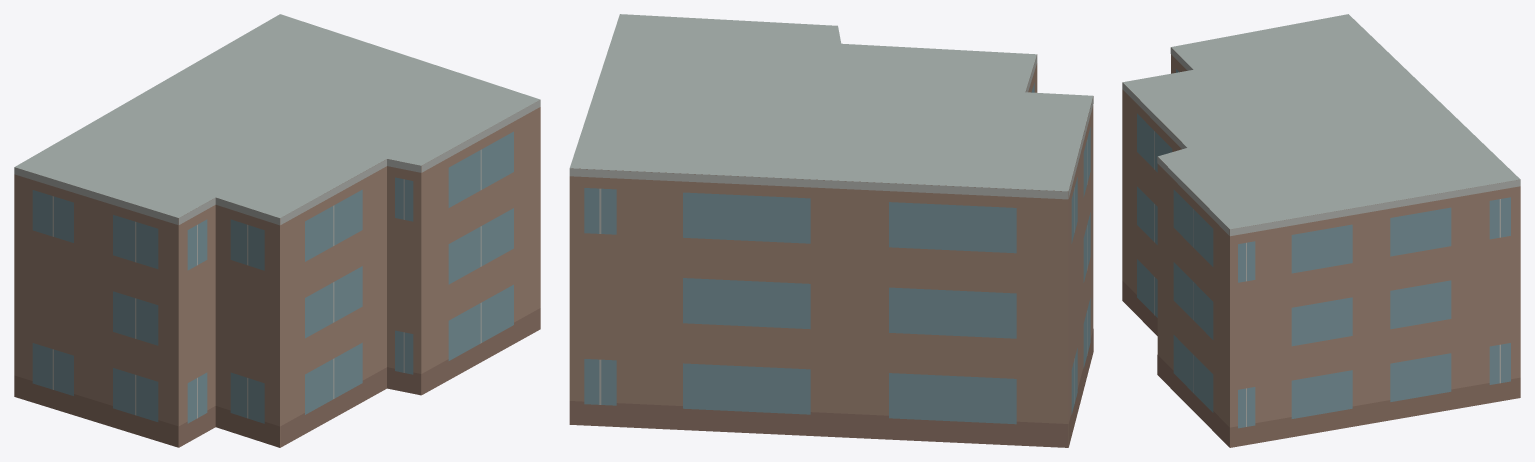
File: survey-upis-32993583.glb
The picture shows the model from 3 angles, left to right: view 1: azimuth 30°, elevation 25°; view 2: azimuth 150°, elevation 25°; view 3: azimuth 270°, elevation 25°; orthographic projection. The views are drawn at different scales.
Parts seen in each view (by area): view 1: survey-upis-32993583.tmp; view 2: survey-upis-32993583.tmp; view 3: survey-upis-32993583.tmp.
Part boxes in pixels (x1=…): survey-upis-32993583.tmp: x1=14, y1=14, x2=540, y2=447; survey-upis-32993583.tmp: x1=569, y1=14, x2=1093, y2=447; survey-upis-32993583.tmp: x1=1122, y1=14, x2=1520, y2=447.
Bounding box in the file's own units: 16.51 × 7.8 × 12.9.
